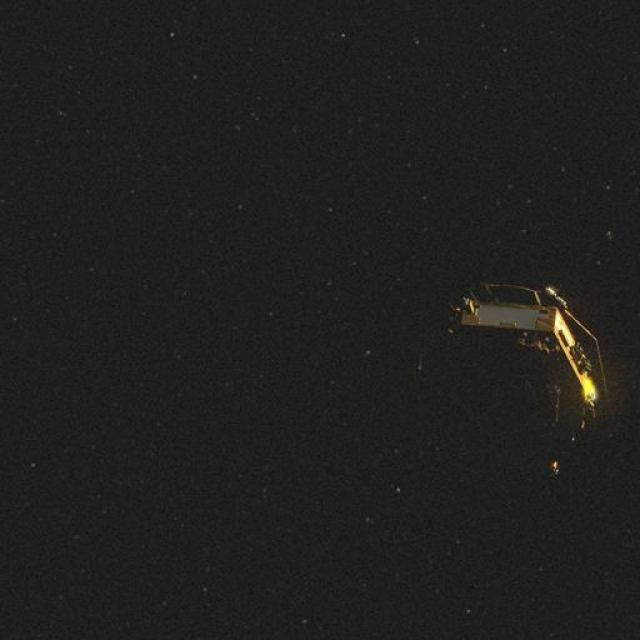lisa_pathfinder: (406, 255, 624, 484)
